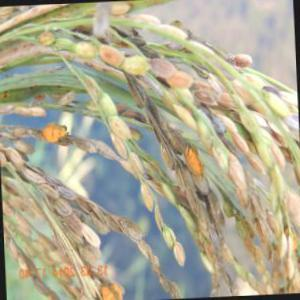Leaf_Scald: (93, 272, 124, 300), (188, 147, 205, 183), (45, 120, 65, 148)
